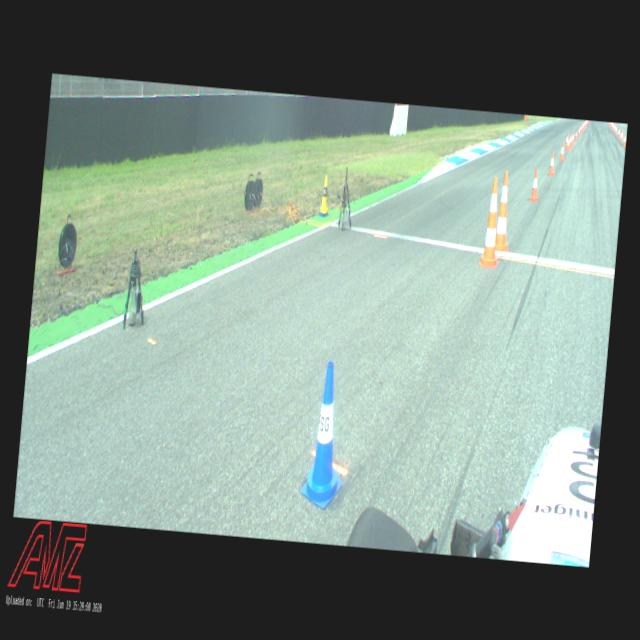blue_cone: (300, 358, 352, 511)
large_orange_cone: (478, 176, 505, 268), (494, 170, 516, 258)
orange_cone: (529, 168, 540, 202), (547, 151, 556, 175), (558, 142, 566, 162), (566, 136, 571, 152), (571, 130, 575, 146), (622, 132, 626, 148), (568, 134, 572, 147), (564, 133, 568, 146), (574, 127, 578, 139), (619, 130, 623, 142), (614, 124, 617, 135), (618, 126, 620, 138), (578, 125, 580, 136)
yellow_cone: (318, 174, 332, 213)
